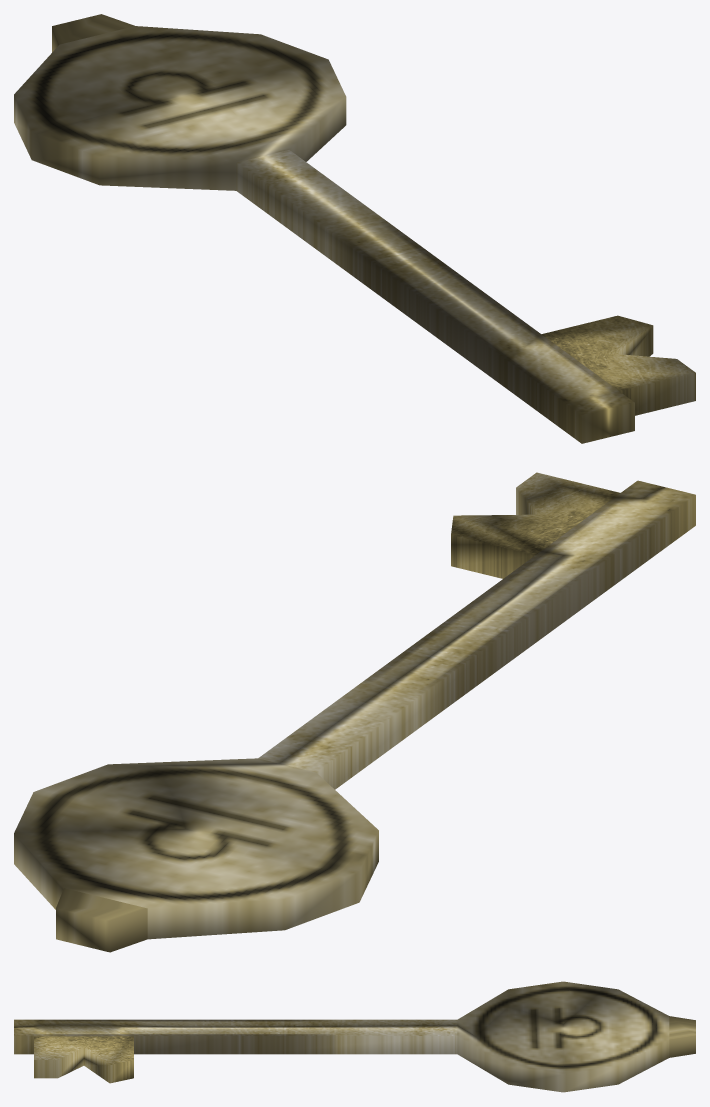
File: key_h_libra.fbx
3 renders of one model, top to bottom at view 1: azimuth 30°, elevation 25°; view 2: azimuth 150°, elevation 25°; view 3: azimuth 270°, elevation 25°, orthographic. The views are drawn at different scales.
Visible parts, largest first — view 1: key_h_Libra; view 2: key_h_Libra; view 3: key_h_Libra.
Part boxes in pixels (x1,y1,x2,y2): key_h_Libra: (14,14,695,443); key_h_Libra: (14,472,695,952); key_h_Libra: (14,981,695,1092).
Bounding box in the file's own units: 9.46 × 0.8583 × 29.34.
Materials: 1 (1 with a texture image).
